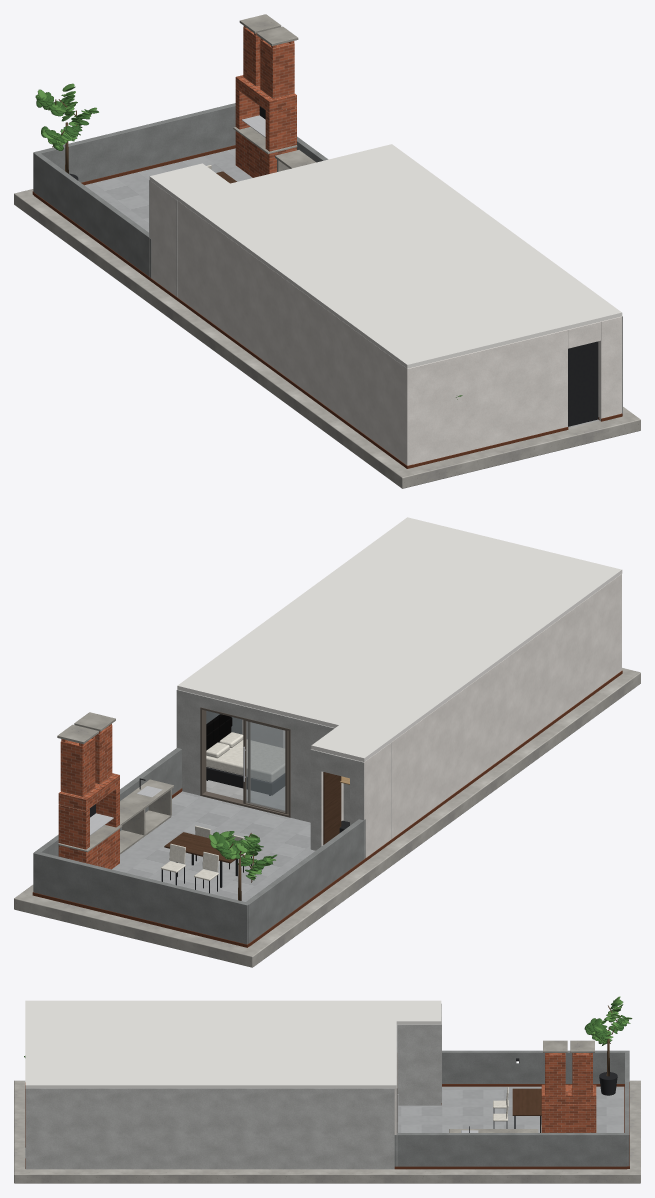
File: apartment.glb
The picture shows the model from 3 angles, top to bottom: view 1: azimuth 30°, elevation 25°; view 2: azimuth 150°, elevation 25°; view 3: azimuth 270°, elevation 25°; orthographic projection. The views are drawn at different scales.
Visible parts, largest first — view 1: Ceiling, Wall_E_L0_03, Wall_S_L0_14, Slab, Wall_N_L0_00, Wall_E_L0_02, Floor_terrace_a, Door_entry, Wall_S_L0_13, Chimney1, Ceiling_laundry, BBQ_base (+4 smaller); view 2: Ceiling, Wall_E_L0_03, Slab, Wall_N_L0_00, Floor_terrace_a, Wall_E_L0_02, Floor_terrace_b, DoorSlide_glass, DoorFixed_glass, Clad_N_L0_05, Clad_N_L0_04, Mattress (+19 smaller); view 3: Ceiling, Clad_W_L0_11, Slab, Wall_W_L0_01, Floor_terrace_a, Wall_E_L0_02, Clad_W_L0_10, BBQ_back, Floor_terrace_b, Ceiling_laundry, Skirting_W_L0_01, Chimney0 (+9 smaller).
Part boxes in pixels (left/top/right/bottom): Ceiling: left=177, top=144, right=622, bottom=368; Wall_E_L0_03: left=151, top=181, right=407, bottom=465; Wall_S_L0_14: left=407, top=329, right=567, bottom=465; Slab: left=14, top=189, right=640, bottom=488; Wall_N_L0_00: left=33, top=103, right=235, bottom=191; Wall_E_L0_02: left=34, top=153, right=151, bottom=277; Floor_terrace_a: left=84, top=148, right=252, bottom=232; Door_entry: left=568, top=341, right=598, bottom=426; Wall_S_L0_13: left=598, top=316, right=621, bottom=420; Chimney1: left=260, top=39, right=294, bottom=98; Ceiling_laundry: left=149, top=163, right=229, bottom=199; BBQ_base: left=235, top=131, right=296, bottom=177; Ceiling: left=177, top=517, right=622, bottom=741; Wall_E_L0_03: left=365, top=574, right=621, bottom=857; Slab: left=14, top=668, right=640, bottom=967; Wall_N_L0_00: left=33, top=851, right=249, bottom=944; Floor_terrace_a: left=112, top=814, right=315, bottom=901; Wall_E_L0_02: left=246, top=819, right=365, bottom=943; Floor_terrace_b: left=172, top=791, right=310, bottom=847; DoorSlide_glass: left=246, top=721, right=284, bottom=811; DoorFixed_glass: left=250, top=722, right=284, bottom=810; Clad_N_L0_05: left=289, top=717, right=391, bottom=838; Clad_N_L0_04: left=176, top=689, right=201, bottom=795; Mattress: left=206, top=739, right=284, bottom=782; Ceiling: left=25, top=1000, right=396, bottom=1088; Clad_W_L0_11: left=25, top=1088, right=394, bottom=1169; Slab: left=14, top=1080, right=640, bottom=1183; Wall_W_L0_01: left=394, top=1133, right=627, bottom=1166; Floor_terrace_a: left=439, top=1086, right=624, bottom=1132; Wall_E_L0_02: left=442, top=1050, right=624, bottom=1083; Clad_W_L0_10: left=397, top=1024, right=441, bottom=1105; BBQ_back: left=541, top=1104, right=596, bottom=1132; Floor_terrace_b: left=397, top=1105, right=438, bottom=1132; Ceiling_laundry: left=396, top=1000, right=441, bottom=1024; Skirting_W_L0_01: left=394, top=1166, right=627, bottom=1169; Chimney0: left=572, top=1053, right=592, bottom=1095.
Bounding box in the file's own units: 6.5 × 4.08 × 18.3.
41 materials, 22 textured.
